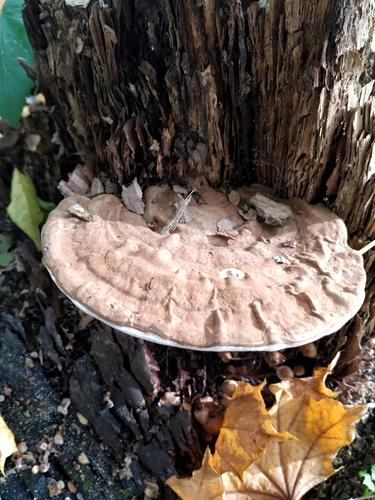Ganoderma - Fruit Body: (41, 177, 369, 349)
